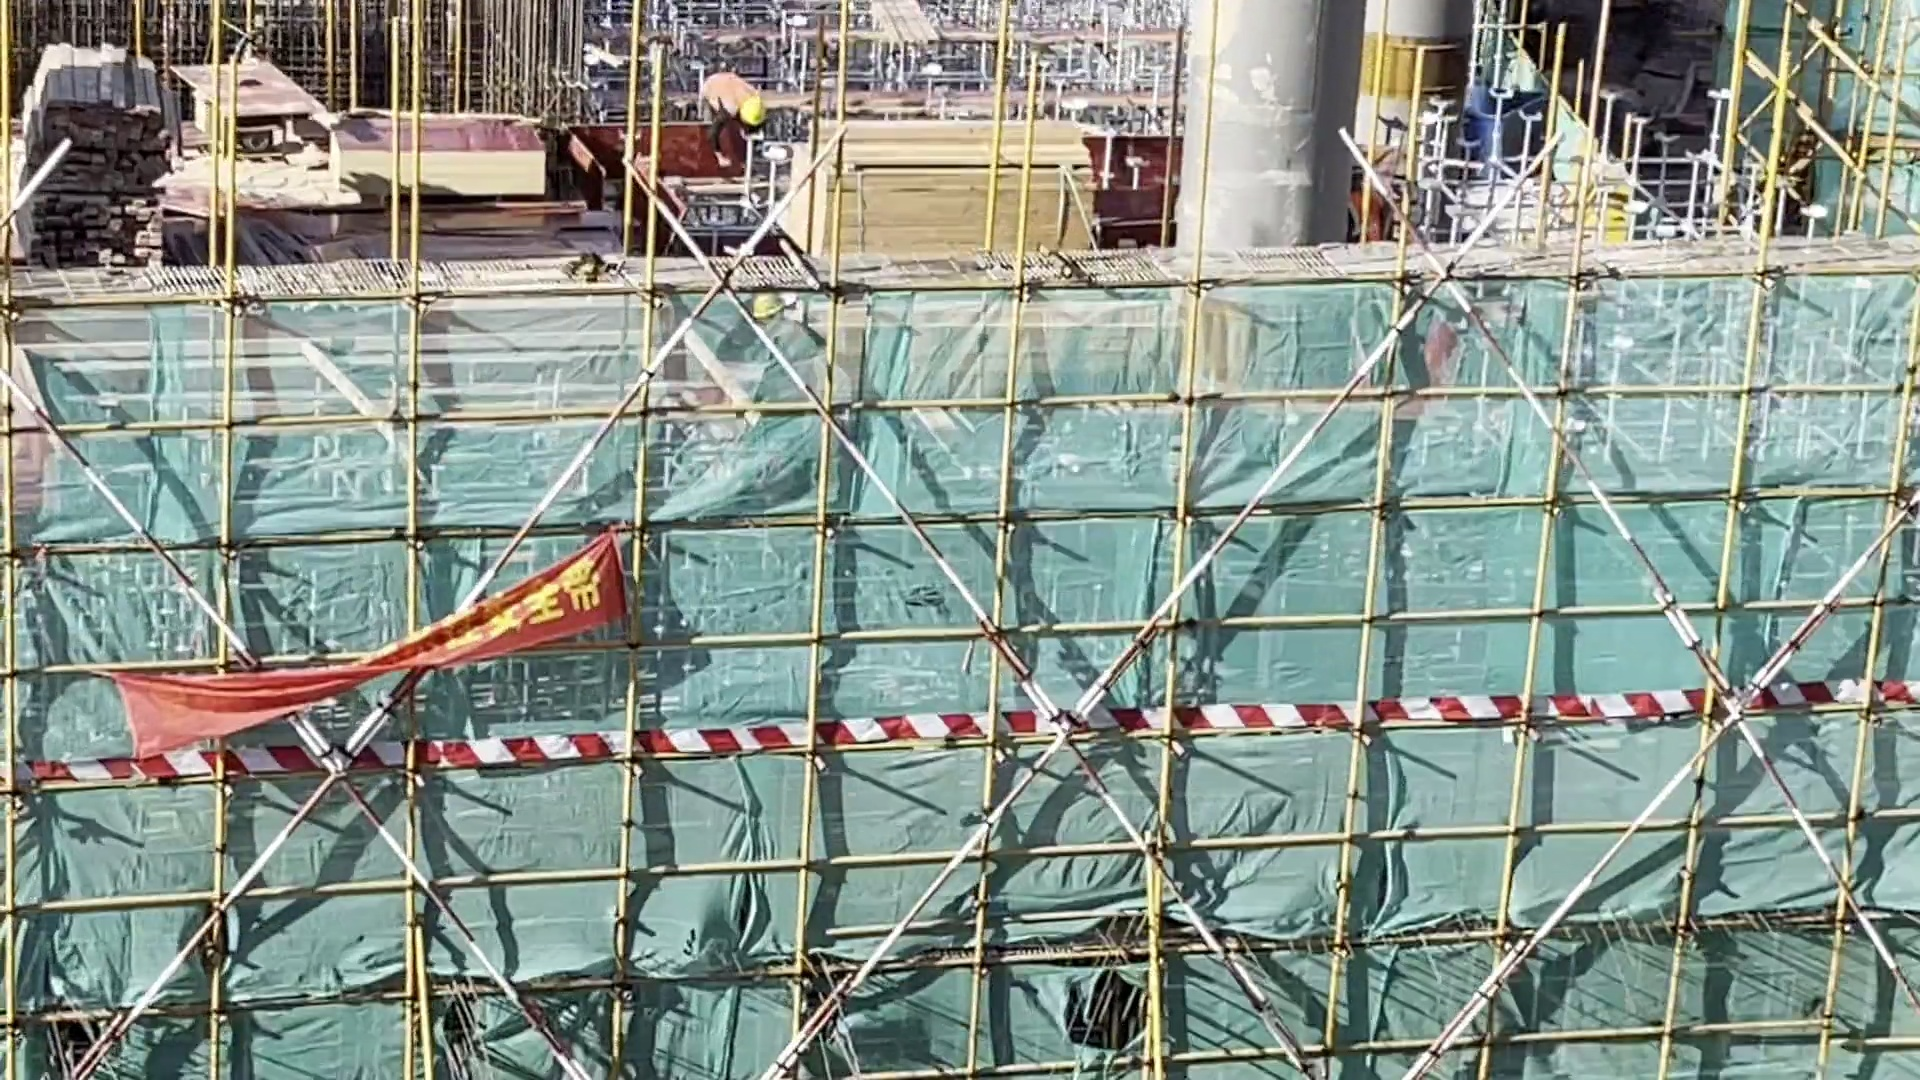helmet: (733, 87, 774, 130)
person: (703, 60, 780, 174)
slogan: (107, 521, 642, 773)
vest: (704, 65, 744, 123)
wood: (770, 89, 1108, 253), (19, 30, 185, 278)
